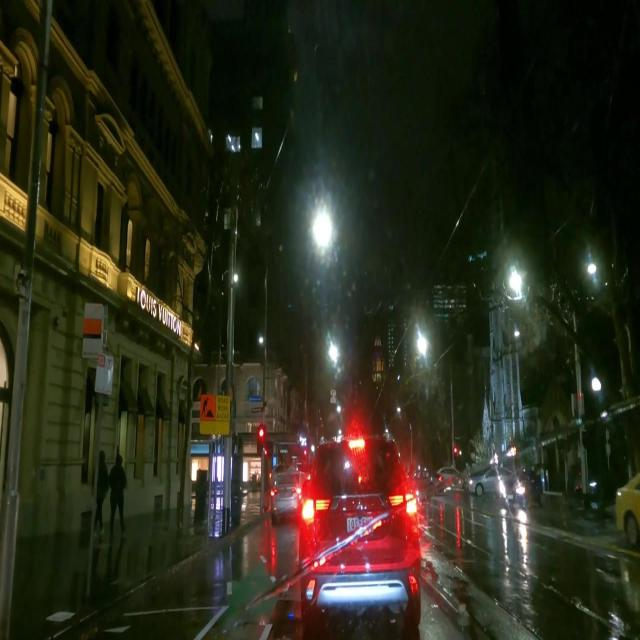Car: (294, 434, 421, 631), (462, 458, 515, 495)
